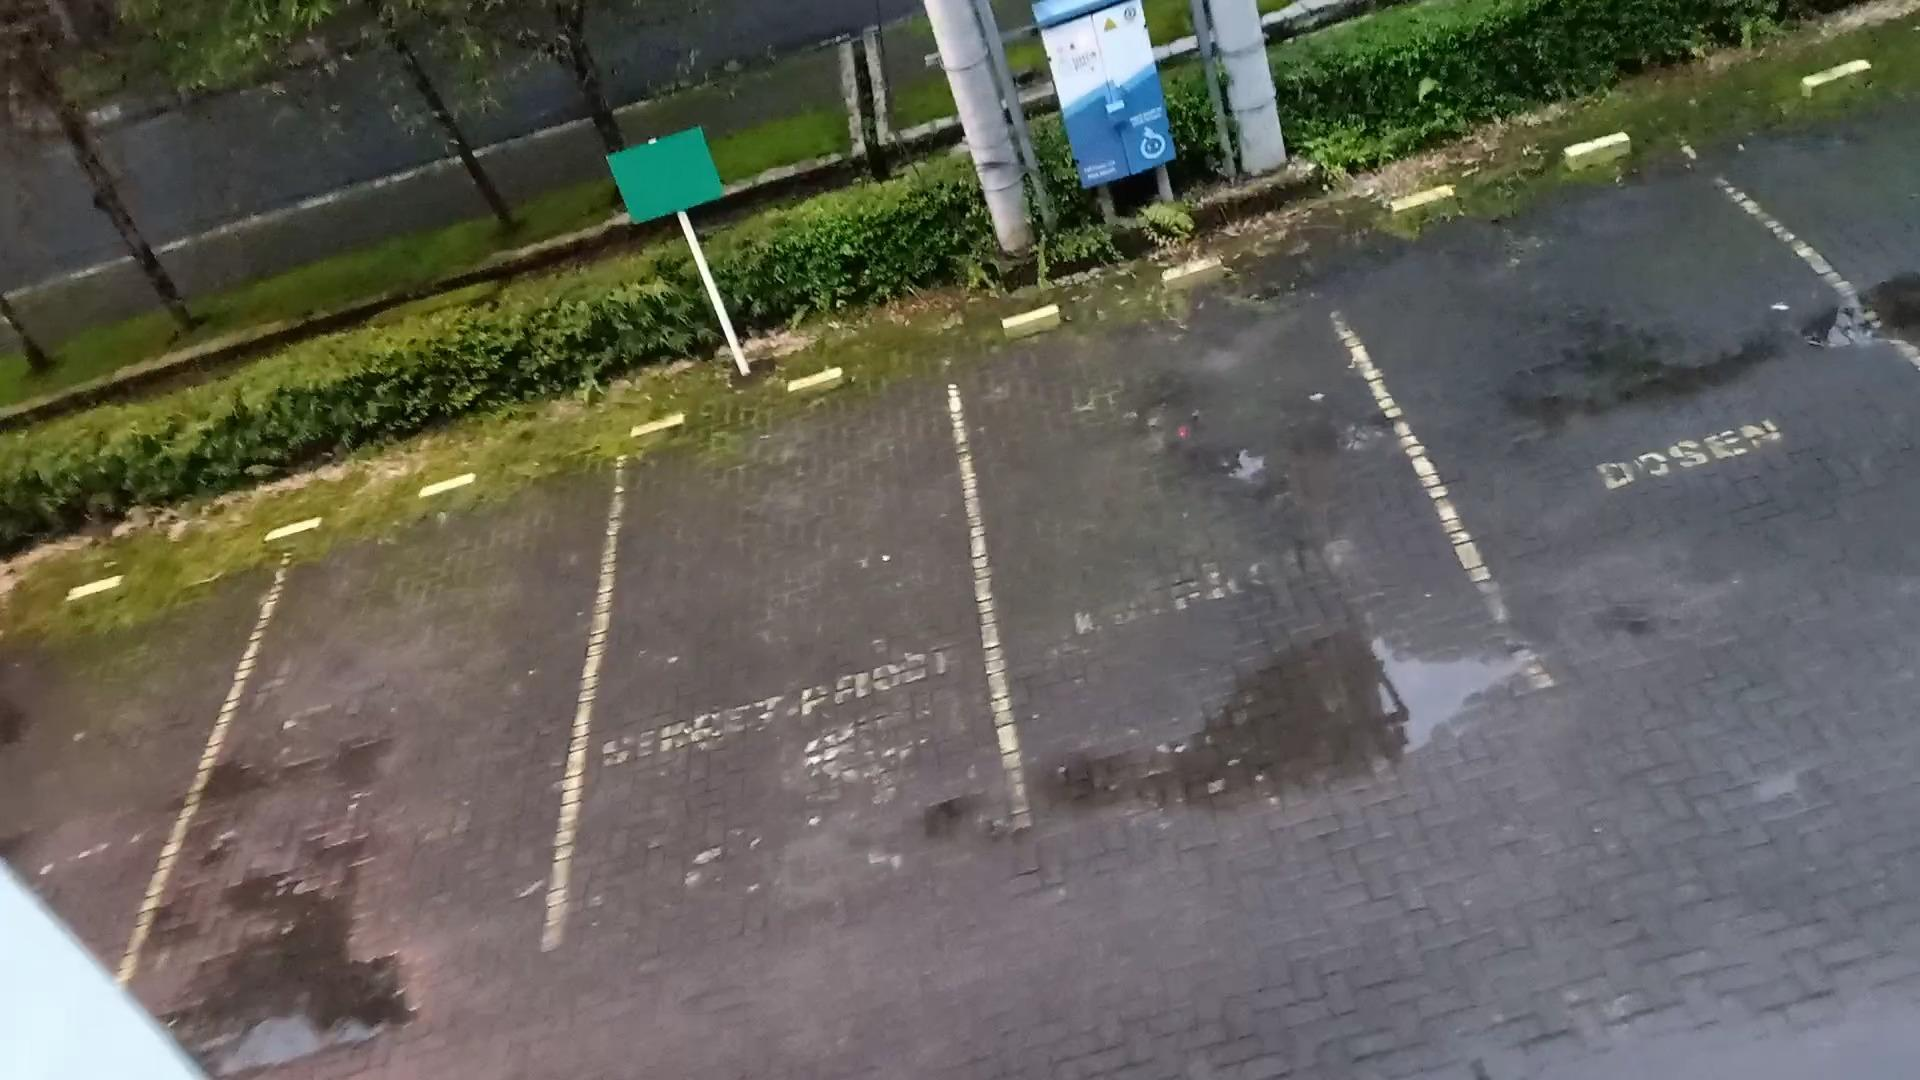empty: (962, 231, 1420, 866), (1401, 128, 1870, 702), (574, 359, 980, 921), (220, 475, 598, 964)
